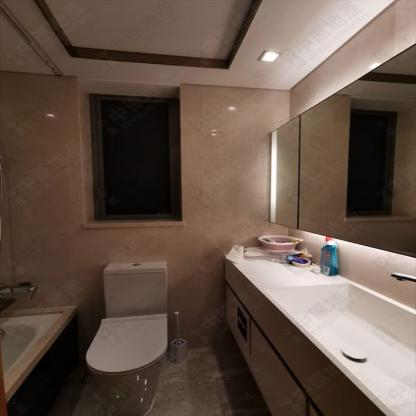Toilet: (87, 258, 170, 413)
Toilet Sink: (265, 284, 415, 405)
